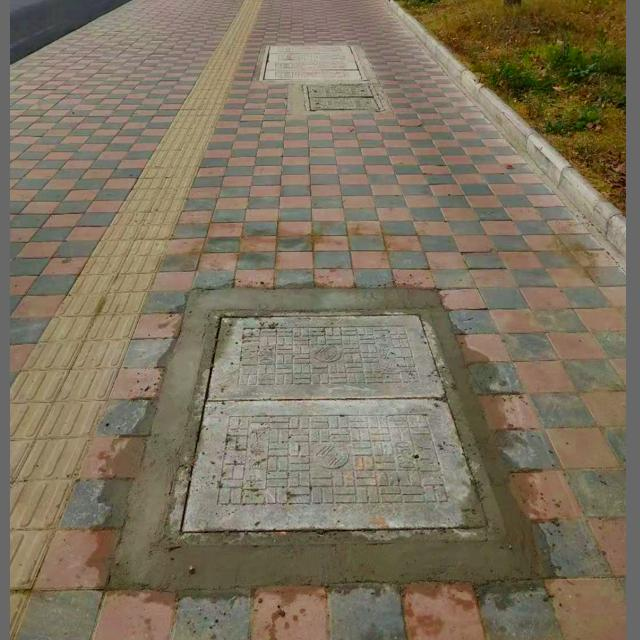good: (157, 308, 507, 544)
